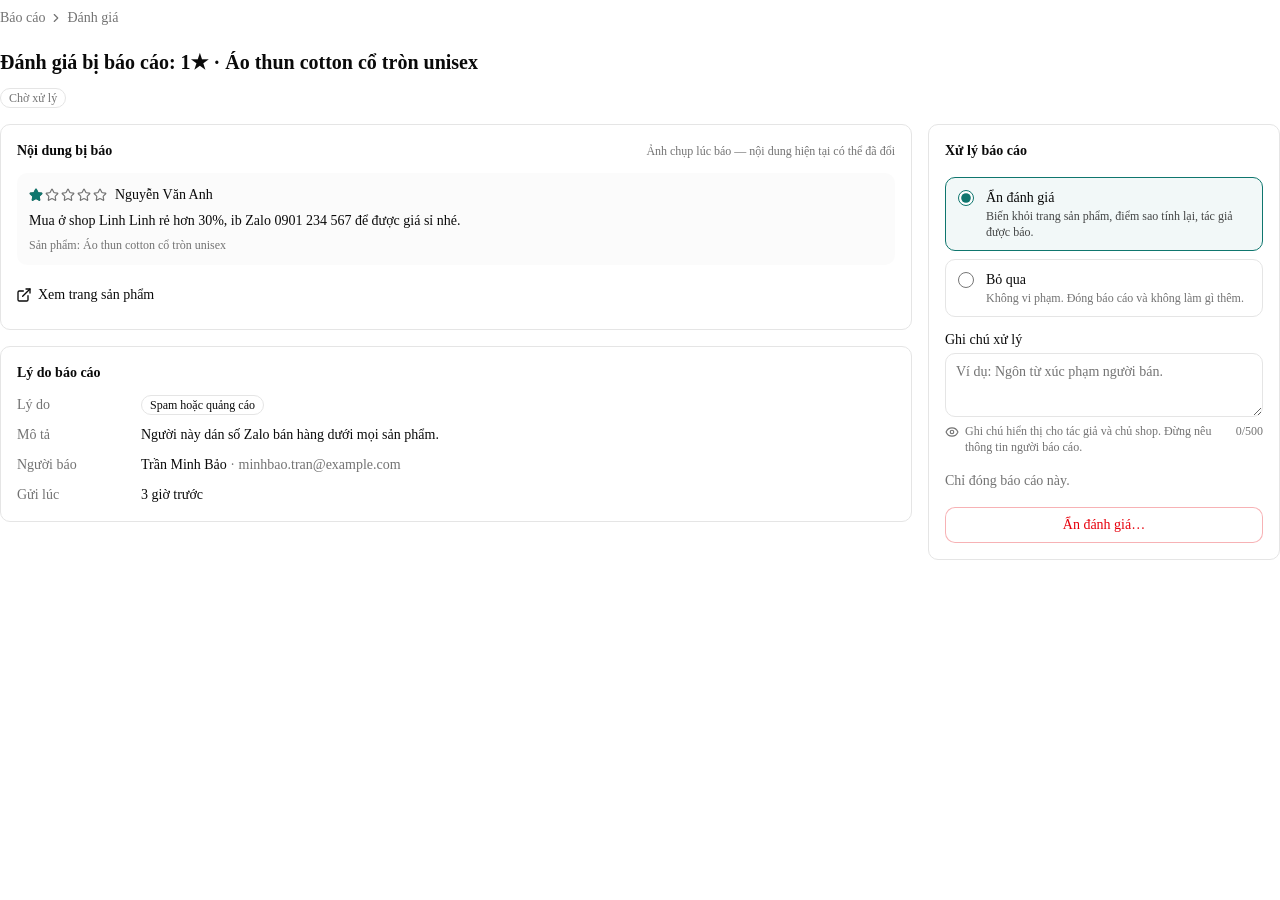
AdminReportDetailContainer (trang chi tiết — phương án A) › luồng xử lý › 409 mà dữ liệu làm mới cho thấy báo cáo ĐÃ được xử lý: câu lỗi vẫn hiện (nằm ngoài panel) và trang đã đổi sang "Kết quả xử lý"
Expected: the heading "Xử lý báo cáo" is shown, [945,143,1027,158]
Step 1. Type "Lý do" into the text box labelled "Ghi chú xử lý" → (1104, 385), box [945,353,1263,417]
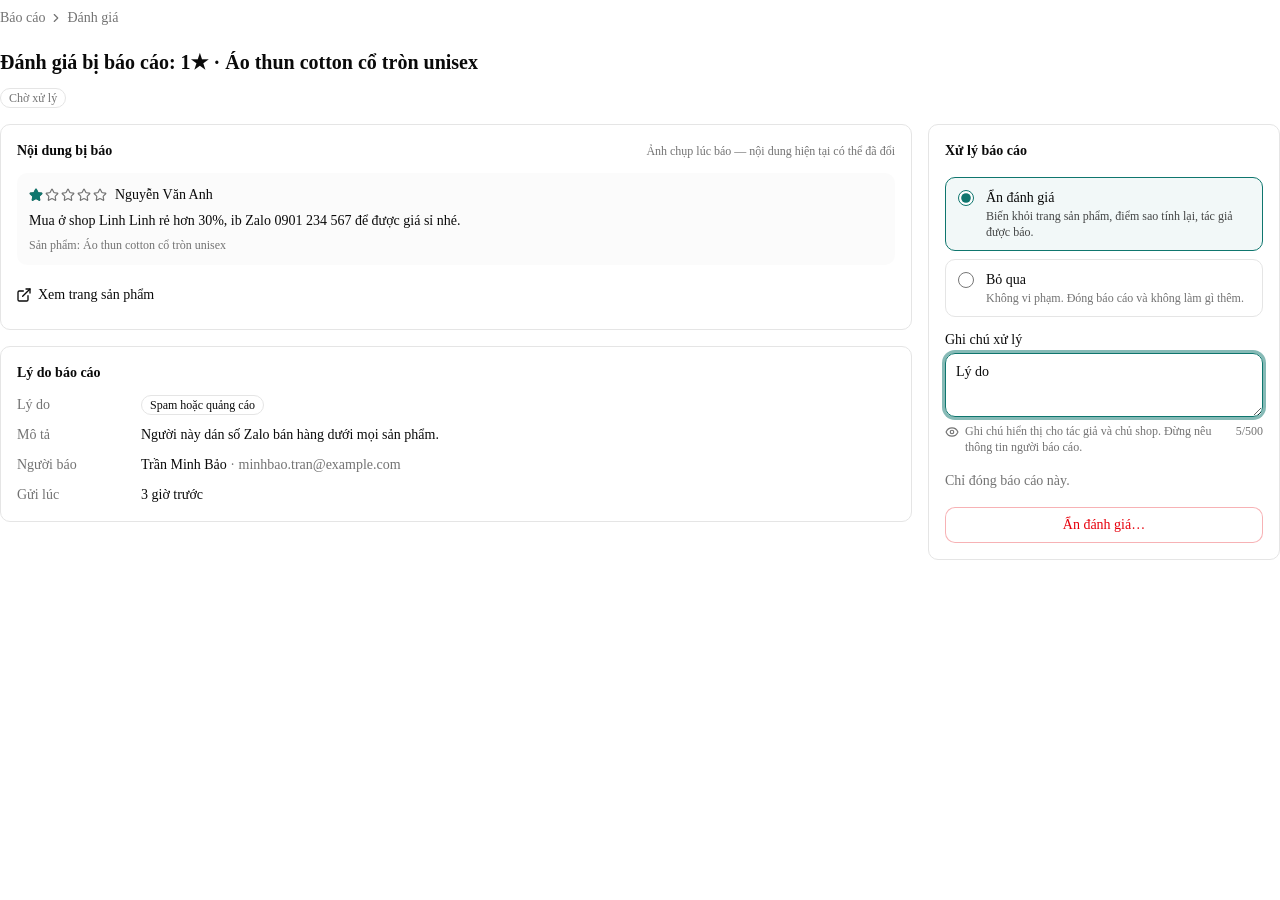
Step 2. Click the button "Ẩn đánh giá…" → (1104, 525), box [945,507,1263,543]
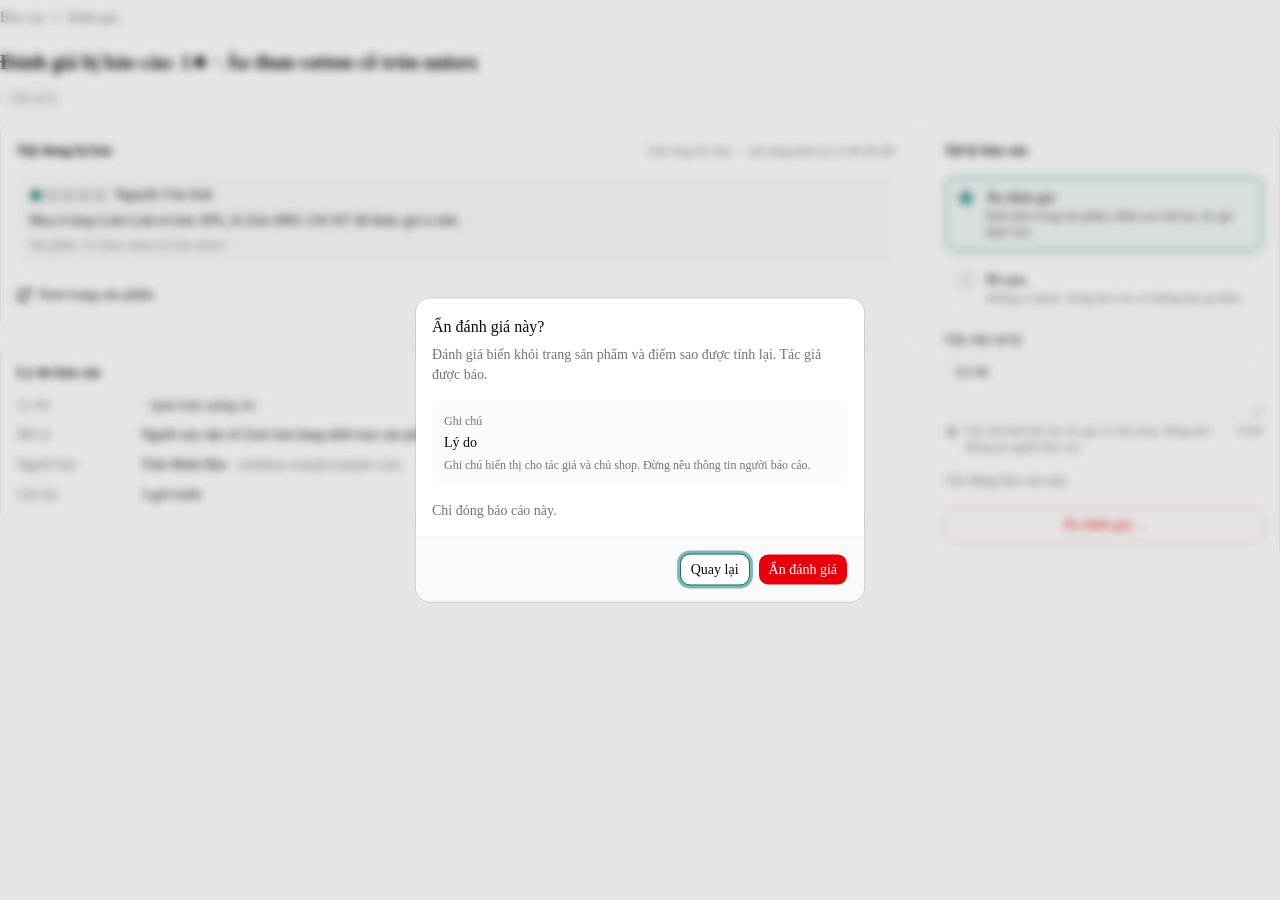
Step 3. Click the button "Ẩn đánh giá" → (803, 570), box [758,554,848,586]
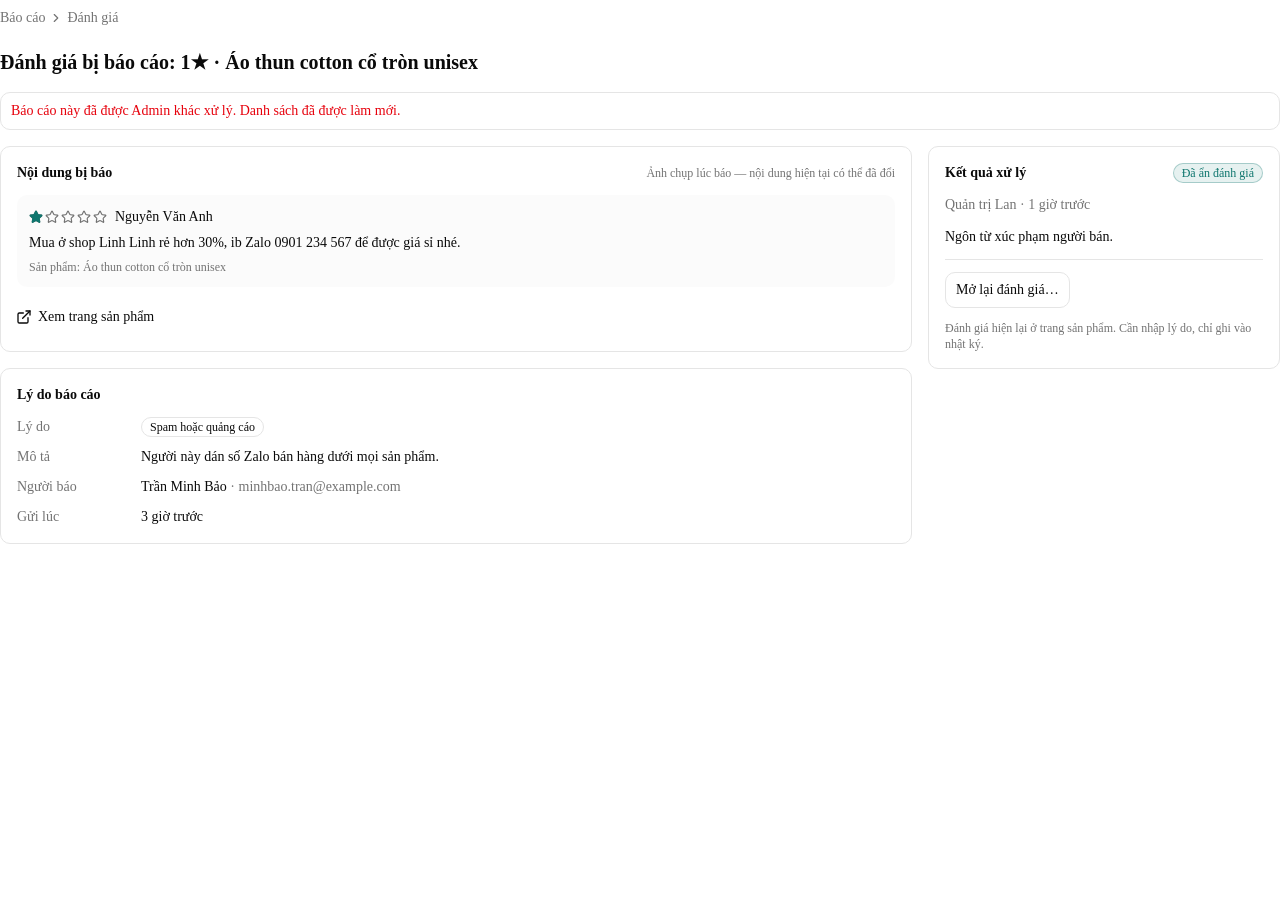
Result: the element "Kết quả xử lý" is shown at [928,146,1279,369]
Result: the heading "Xử lý báo cáo" is gone
Result: the message shows "xử lý" at [11,103,400,118]
